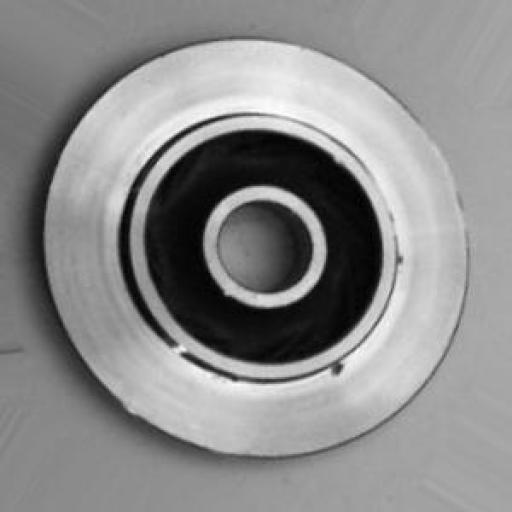defect: (312, 224, 418, 392)
